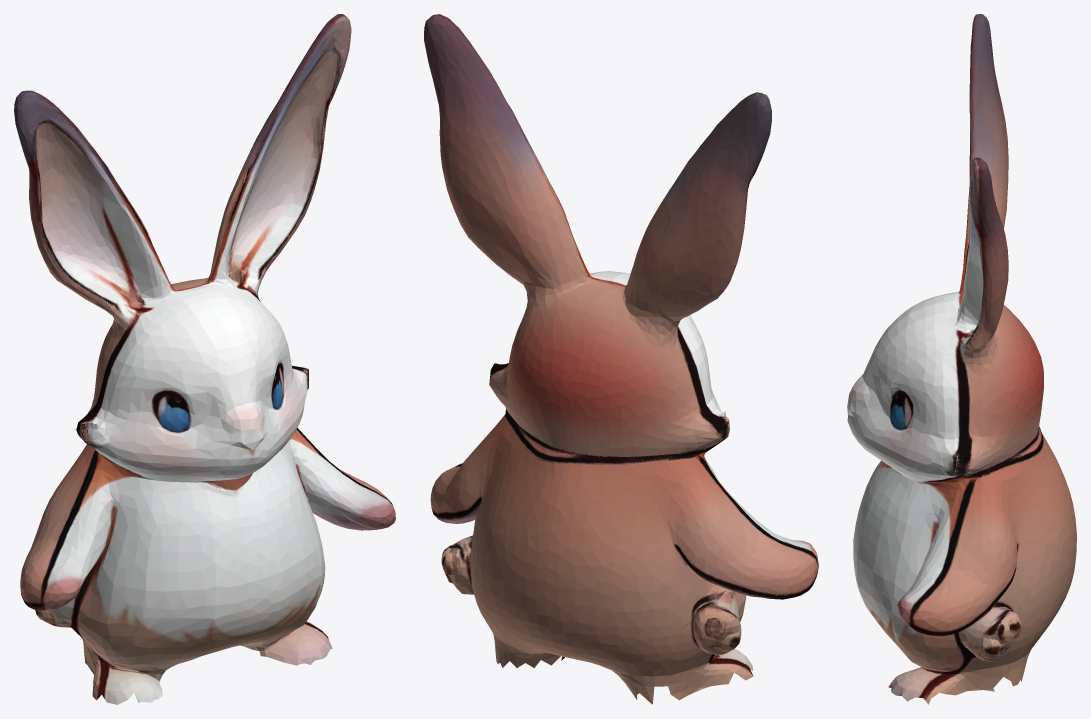
File: bunny.glb
3 views of the same model, side by side, from view 1: azimuth 30°, elevation 25°; view 2: azimuth 150°, elevation 25°; view 3: azimuth 270°, elevation 25° (orthographic). The views are drawn at different scales.
Visible parts, largest first — view 1: geometry_0; view 2: geometry_0; view 3: geometry_0.
Part boxes in pixels (x1,y1,x2,y2): geometry_0: (14, 14, 395, 704); geometry_0: (424, 14, 818, 704); geometry_0: (847, 14, 1076, 704).
Size of the model in its own units: 0.317 by 0.5 by 0.1847.
1 material, 1 textured.
